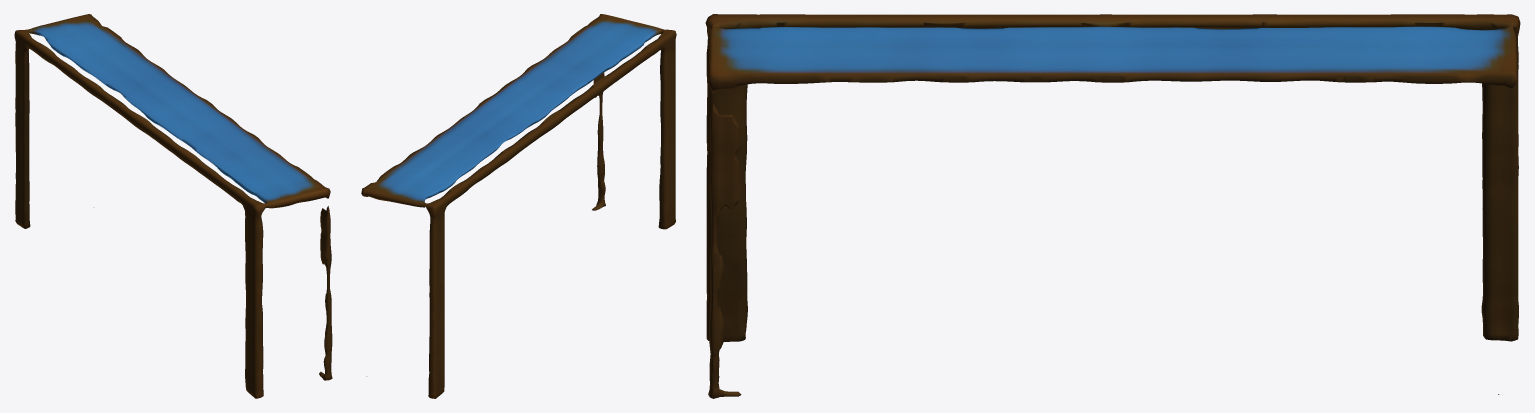
The model's file is A tall, olive-colored, square table with a blue gl.glb.
3 views of the same model, side by side, from view 1: azimuth 30°, elevation 25°; view 2: azimuth 150°, elevation 25°; view 3: azimuth 270°, elevation 25° (orthographic). The views are drawn at different scales.
Parts seen in each view (by area): view 1: A tall, olive-colored, square table with a blue gl; view 2: A tall, olive-colored, square table with a blue gl; view 3: A tall, olive-colored, square table with a blue gl.
Boxes of the visible parts, <box> form: A tall, olive-colored, square table with a blue gl: <box>14,14,332,398</box>; A tall, olive-colored, square table with a blue gl: <box>361,14,676,398</box>; A tall, olive-colored, square table with a blue gl: <box>705,14,1520,398</box>.
Size of the model in its own units: 0.3679 by 0.872 by 1.98.
